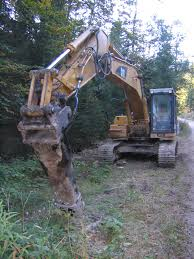excavator: (19, 27, 181, 228)
